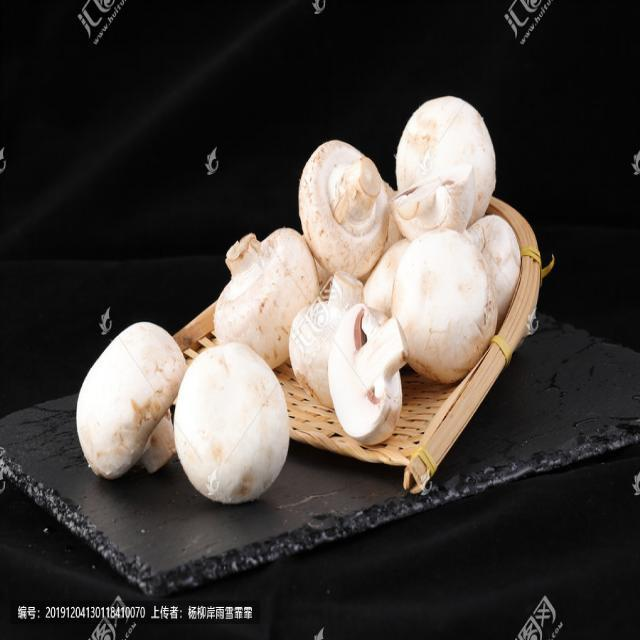Agaricus bisporus: (171, 346, 290, 495), (77, 325, 183, 480), (215, 227, 319, 364), (392, 246, 494, 376), (393, 105, 497, 228), (303, 135, 388, 273), (337, 304, 409, 443)
